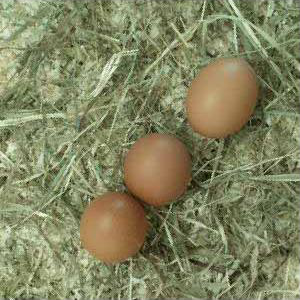egg: (184, 55, 259, 139), (123, 132, 193, 208), (80, 191, 148, 264)
